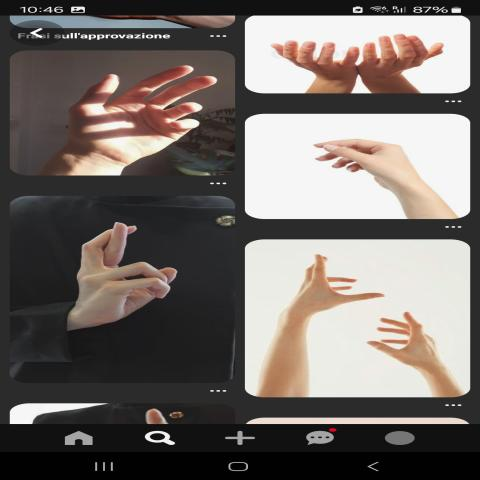hands: (49, 51, 216, 166), (271, 242, 389, 331), (349, 304, 462, 391), (294, 125, 428, 190), (356, 20, 464, 85), (262, 22, 358, 94)
